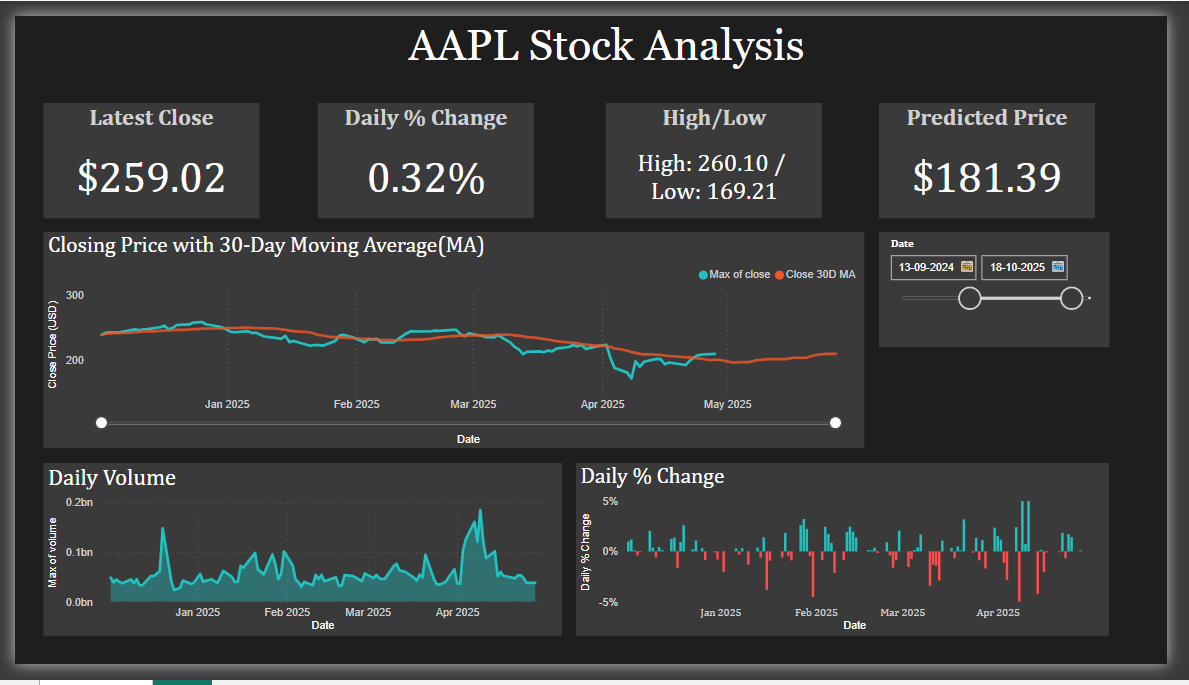

The dashboard page shown, as its layout file describes it:
{"tool":"powerbi","page":{"name":"Page 1","canvas":[1280,720],"ordinal":0},"visuals":[{"type":"textbox","box":[432,0,464,128],"z":0},{"type":"card","title":"Latest Close","fields":{"Values":["Prices.Latest Close"]},"box":[32,96,240,128],"z":1000},{"type":"card","title":"Daily % Change","fields":{"Values":["Prices.Daily % Change"]},"box":[336,96,240,128],"z":2000},{"type":"card","title":"High/Low","fields":{"Values":["Prices.High / Low (Sel)"]},"box":[656,96,240,128],"z":3000},{"type":"card","title":"Predicted Price","fields":{"Values":["Forecast.Predicted Price"]},"box":[960,96,240,128],"z":4000},{"type":"lineChart","title":"Closing Price with 30‑Day Moving Average(MA)","fields":{"Category":["Dates.Date"],"Y":["Max(Prices.close)","Prices.Close 30D MA"]},"box":[32,240,912,240],"z":5000},{"type":"slicer","fields":{"Values":["Dates.Date"]},"box":[960,240,256,128],"z":6000},{"type":"areaChart","title":"Daily Volume","fields":{"Category":["Dates.Date"],"Y":["Max(Prices.volume)"]},"box":[32,496,576,192],"z":7000},{"type":"clusteredColumnChart","title":"Daily % Change","fields":{"Category":["Dates.Date"],"Y":["Prices.Daily % Change"]},"box":[624,496,592,192],"z":8000}]}

Visuals, with their boxes in screenshot pixels (x1, y1, x2, y2), scaled from the page's 1280x720 canvas onto the 1189x685 screenshot:
textbox: <region>401, 0, 832, 122</region>
"Latest Close" card: <region>30, 91, 253, 213</region>
"Daily % Change" card: <region>312, 91, 535, 213</region>
"High/Low" card: <region>609, 91, 832, 213</region>
"Predicted Price" card: <region>892, 91, 1115, 213</region>
"Closing Price with 30‑Day Moving Average(MA)" lineChart: <region>30, 228, 877, 457</region>
slicer - Dates.Date: <region>892, 228, 1130, 350</region>
"Daily Volume" areaChart: <region>30, 472, 565, 655</region>
"Daily % Change" clusteredColumnChart: <region>580, 472, 1130, 655</region>
